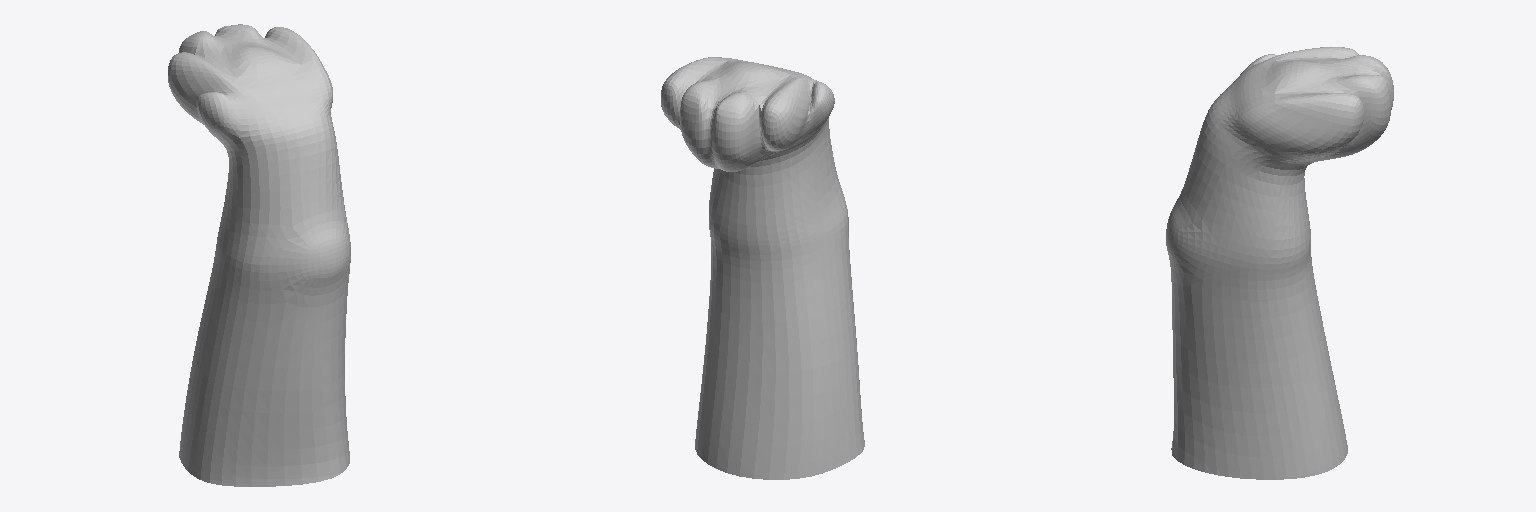
File: cat-hand-L.obj
3 renders of one model, left to right at view 1: azimuth 30°, elevation 25°; view 2: azimuth 150°, elevation 25°; view 3: azimuth 270°, elevation 25°, orthographic.
Parts seen in each view (by area): view 1: 12222_Cat_v1_l3.004; view 2: 12222_Cat_v1_l3.004; view 3: 12222_Cat_v1_l3.004.
Boxes of the visible parts, x1,y1,x2,y2 form: 12222_Cat_v1_l3.004: [168, 24, 350, 486]; 12222_Cat_v1_l3.004: [661, 57, 864, 479]; 12222_Cat_v1_l3.004: [1166, 47, 1393, 479].
Size of the model in its own units: 4.61 by 11.28 by 6.